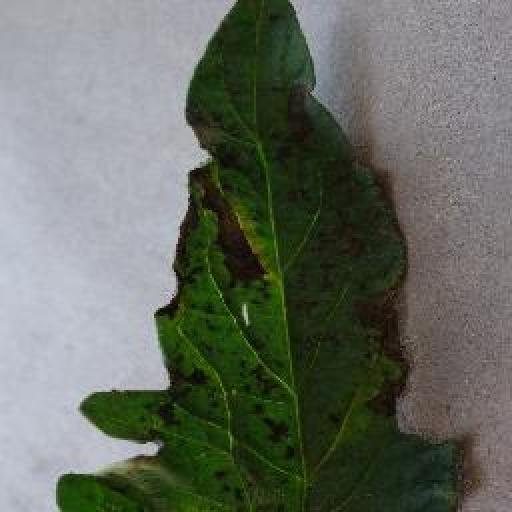Early Blight: (54, 0, 467, 512)
